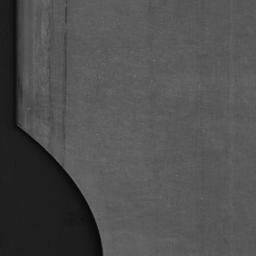Crescent gap: (20, 128, 103, 256)
